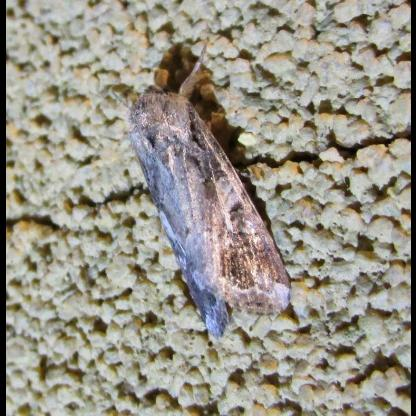Fall Armyworm Moth: (105, 38, 295, 344)
